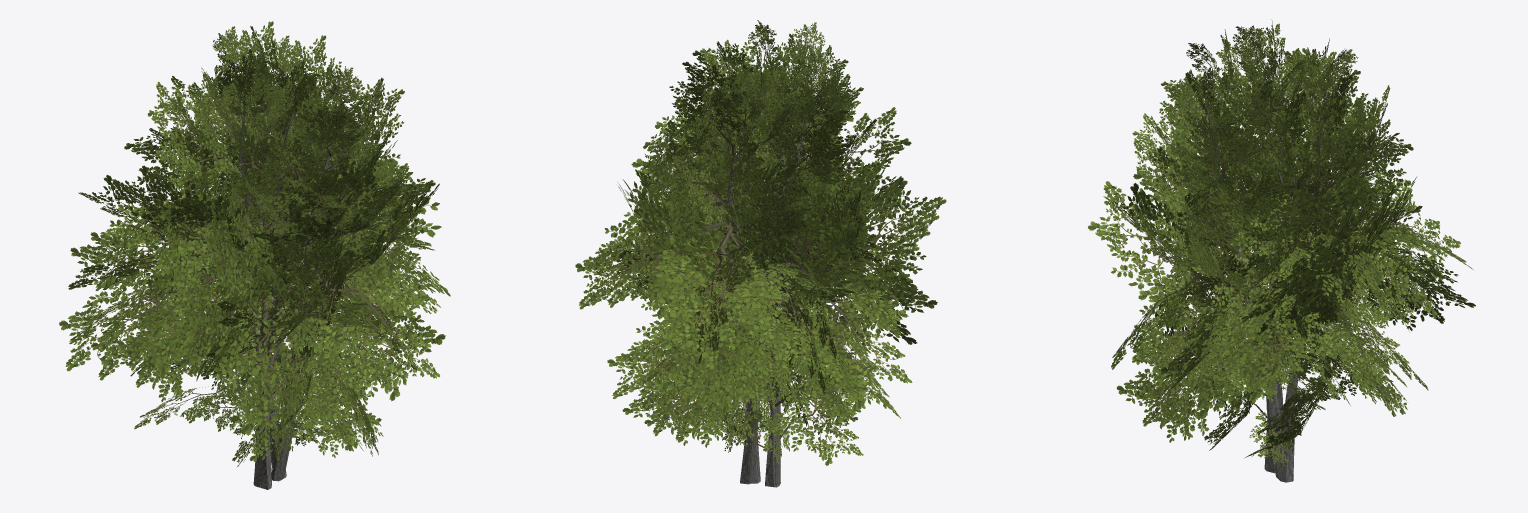
File: 1_Trees-01.fbx
The picture shows the model from 3 angles, left to right: view 1: azimuth 30°, elevation 25°; view 2: azimuth 150°, elevation 25°; view 3: azimuth 270°, elevation 25°; orthographic projection.
Visible parts, largest first — view 1: Tree-01-2, Tree-01-3, Tree-01-1, Tree-01-4; view 2: Tree-01-2, Tree-01-3, Tree-01-1, Tree-01-4; view 3: Tree-01-2, Tree-01-1, Tree-01-3, Tree-01-4.
Boxes of the visible parts, x1,y1,x2,y2 form: Tree-01-2: [59, 21, 450, 481]; Tree-01-3: [69, 35, 445, 489]; Tree-01-1: [91, 26, 420, 480]; Tree-01-4: [134, 158, 381, 487]; Tree-01-2: [575, 20, 939, 484]; Tree-01-3: [586, 22, 946, 487]; Tree-01-1: [625, 24, 892, 484]; Tree-01-4: [645, 144, 872, 487]; Tree-01-2: [1088, 19, 1475, 476]; Tree-01-1: [1124, 23, 1460, 482]; Tree-01-3: [1103, 29, 1449, 473]; Tree-01-4: [1170, 156, 1393, 466].
Size of the model in its own units: 727 by 752 by 732.
